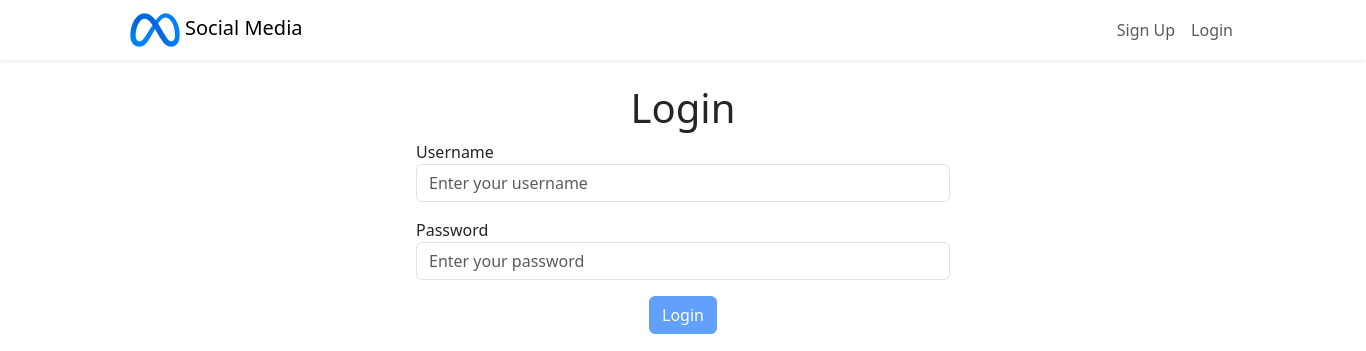
App › shows the HomePage when clicking the logo
Click the picture.
click(155, 30)  # box [125,13,185,47]
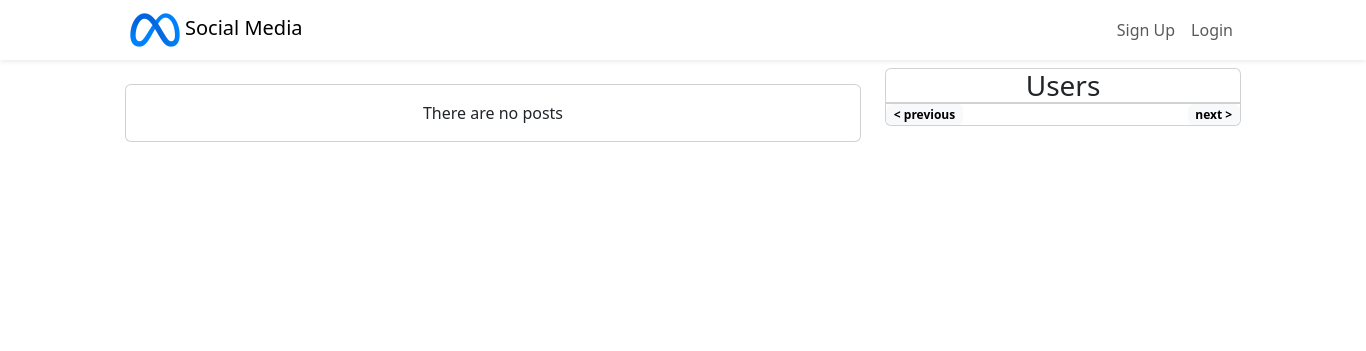
Result: the element with test id "homepage" is shown at [125,68,1241,142]
